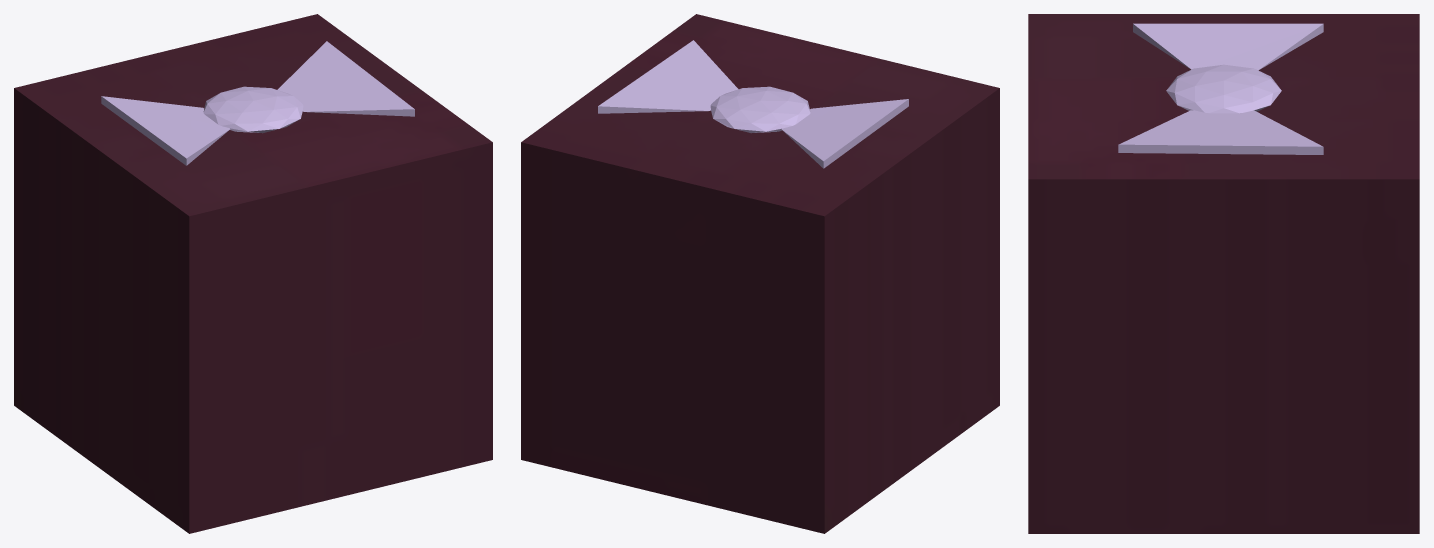
Rendered from zar-zar.dae.
3 views of the same model, side by side, from view 1: azimuth 30°, elevation 25°; view 2: azimuth 150°, elevation 25°; view 3: azimuth 270°, elevation 25° (orthographic). The views are drawn at different scales.
Parts seen in each view (by area): view 1: Cube; view 2: Cube; view 3: Cube.
Part boxes in pixels (x1=…): Cube: x1=14, y1=14, x2=492, y2=533; Cube: x1=521, y1=14, x2=999, y2=533; Cube: x1=1028, y1=14, x2=1419, y2=533.
Bounding box in the file's own units: 0.2277 × 0.2277 × 0.238.
Materials: 1 (1 with a texture image).
